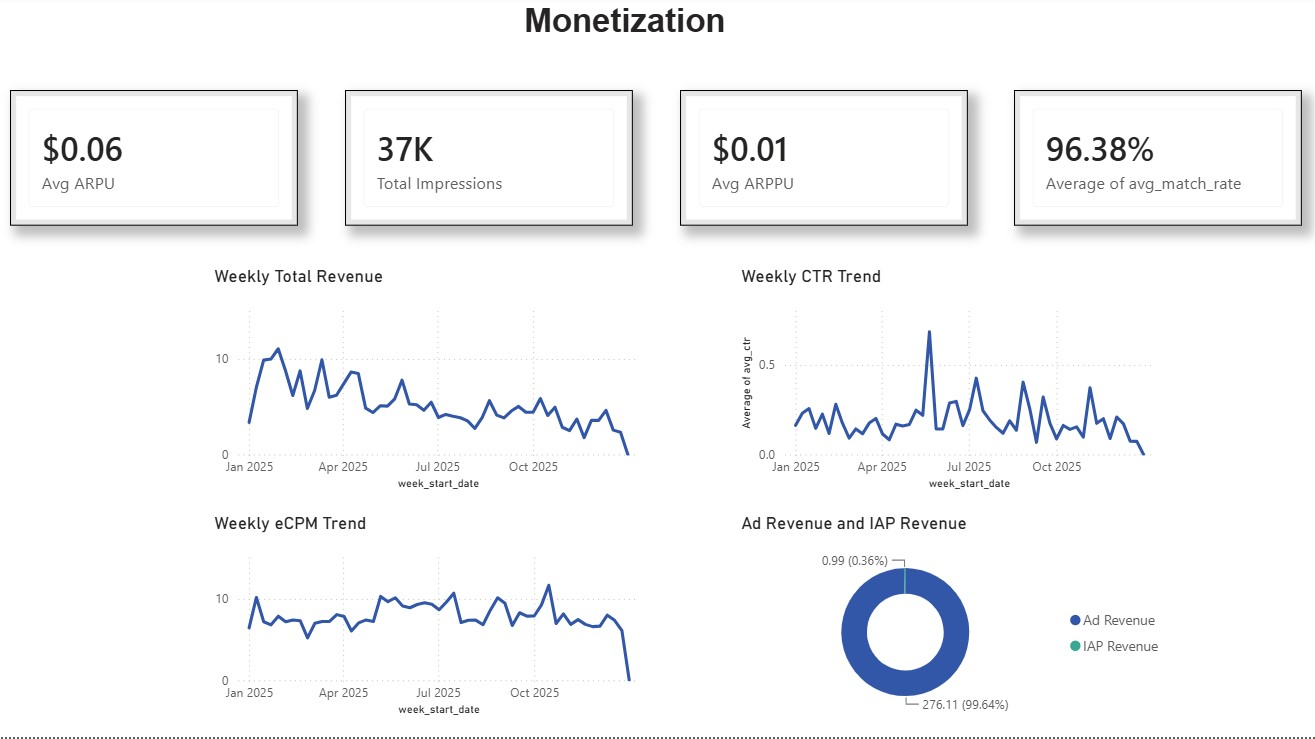

The page's visual inventory and layout, read from the dashboard file:
{"tool":"powerbi","page":{"name":"Monetization","canvas":[1280,720],"ordinal":2},"visuals":[{"type":"textbox","box":[467.9,0,279.9,57.6],"z":0},{"type":"cardVisual","fields":{"Data":["monetization_clean.Avg ARPU"]},"box":[9.6,90.6,280,132],"z":1},{"type":"cardVisual","fields":{"Data":["monetization_clean.Avg ARPPU"]},"box":[661,90.3,280,132],"z":2},{"type":"cardVisual","title":"Total Impressions","fields":{"Data":["Sum(monetization_clean.total_impressions)"]},"box":[335.3,90.3,280,132],"z":3},{"type":"cardVisual","fields":{"Data":["Avg(monetization_clean.avg_match_rate)"]},"box":[986.6,90.6,280,132],"z":4},{"type":"lineChart","title":"Weekly Total Revenue","fields":{"Category":["monetization_clean.week_start_date"],"Y":["Sum(monetization_clean.total_revenue_usd)"]},"box":[203.1,262.1,436.4,222.3],"z":5},{"type":"donutChart","fields":{"Y":["Sum(monetization_clean.ad_revenue_usd)","Sum(monetization_clean.iap_revenue_usd)"]},"box":[716.3,502.2,425.4,201.7],"z":6},{"type":"lineChart","title":"Weekly eCPM Trend","fields":{"Category":["monetization_clean.week_start_date"],"Y":["Sum(monetization_clean.avg_ecpm_usd)"]},"box":[203.1,502.2,437.7,201.7],"z":7},{"type":"lineChart","title":"Weekly CTR Trend","fields":{"Category":["monetization_clean.week_start_date"],"Y":["Avg(monetization_clean.avg_ctr)"]},"box":[716.3,262.1,425.4,222.3],"z":8}]}

Visuals, with their boxes in screenshot pixels (x1, y1, x2, y2), scaled from the page's 1280x720 canvas onto the 1315x739 screenshot:
textbox: (x1=481, y1=0, x2=768, y2=59)
cardVisual - monetization_clean.Avg ARPU: (x1=10, y1=93, x2=298, y2=228)
cardVisual - monetization_clean.Avg ARPPU: (x1=679, y1=93, x2=967, y2=228)
"Total Impressions" cardVisual: (x1=344, y1=93, x2=632, y2=228)
cardVisual - Avg(monetization_clean.avg_match_rate): (x1=1014, y1=93, x2=1301, y2=228)
"Weekly Total Revenue" lineChart: (x1=209, y1=269, x2=657, y2=497)
donutChart - Sum(monetization_clean.ad_revenue_usd) x Sum(monetization_clean.iap_revenue_usd): (x1=736, y1=515, x2=1173, y2=722)
"Weekly eCPM Trend" lineChart: (x1=209, y1=515, x2=658, y2=722)
"Weekly CTR Trend" lineChart: (x1=736, y1=269, x2=1173, y2=497)
